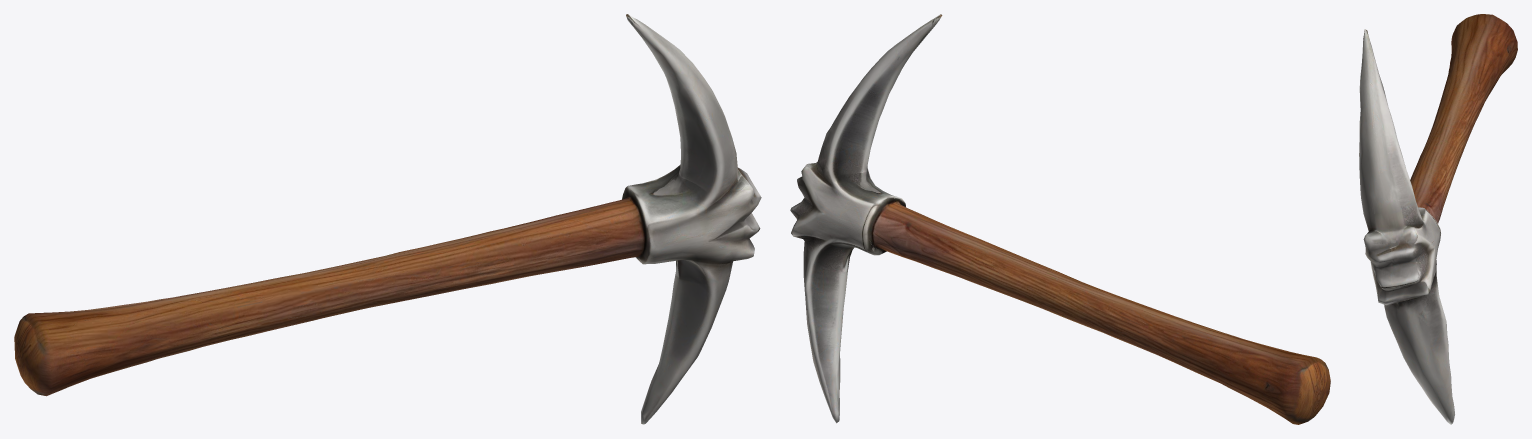
The model's file is steel_pickaxe.glb.
3 views of the same model, side by side, from view 1: azimuth 30°, elevation 25°; view 2: azimuth 150°, elevation 25°; view 3: azimuth 270°, elevation 25° (orthographic). The views are drawn at different scales.
Parts seen in each view (by area): view 1: Mesh_0.004; view 2: Mesh_0.004; view 3: Mesh_0.004.
Boxes of the visible parts, x1,y1,x2,y2 form: Mesh_0.004: (14,14,761,424); Mesh_0.004: (790,14,1330,424); Mesh_0.004: (1359,14,1517,424).
Bounding box in the file's own units: 0.7739 × 0.5088 × 0.1986.
1 material, 1 textured.
